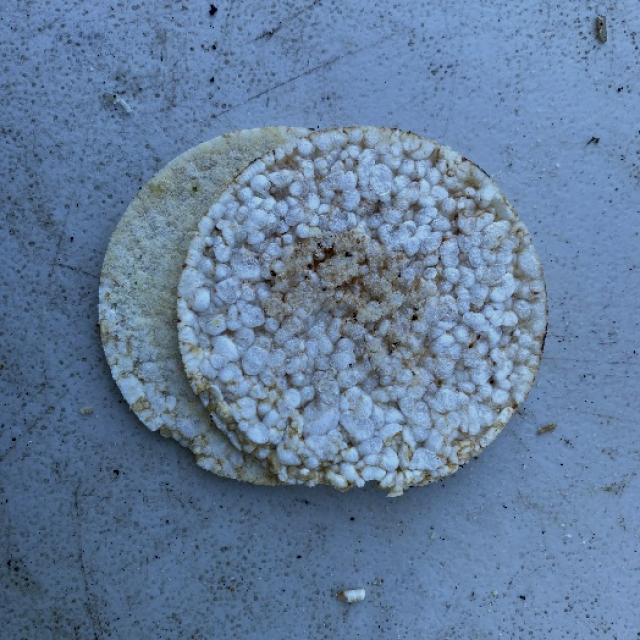wet: (99, 125, 552, 491)
